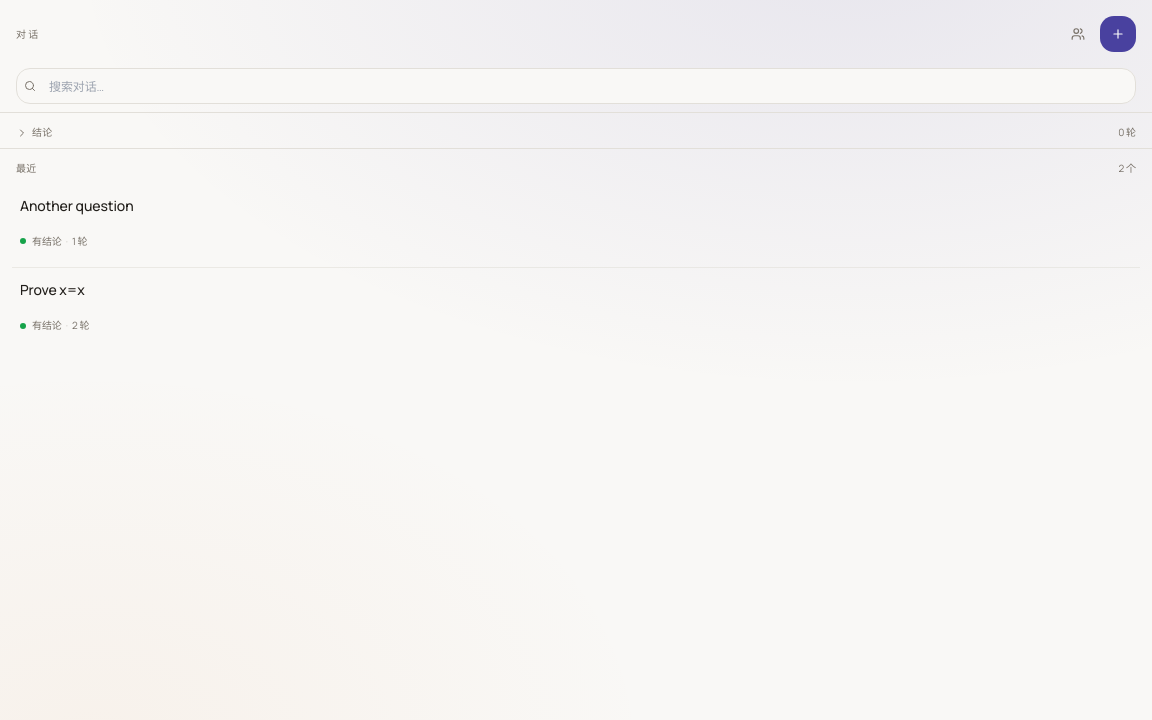
Test: ExplorerPanel › filters history by search text
The image size is (1152, 720).
Type "separate" into the field labelled "搜索对话…". click: (576, 86)
box: [16,68,1136,104]
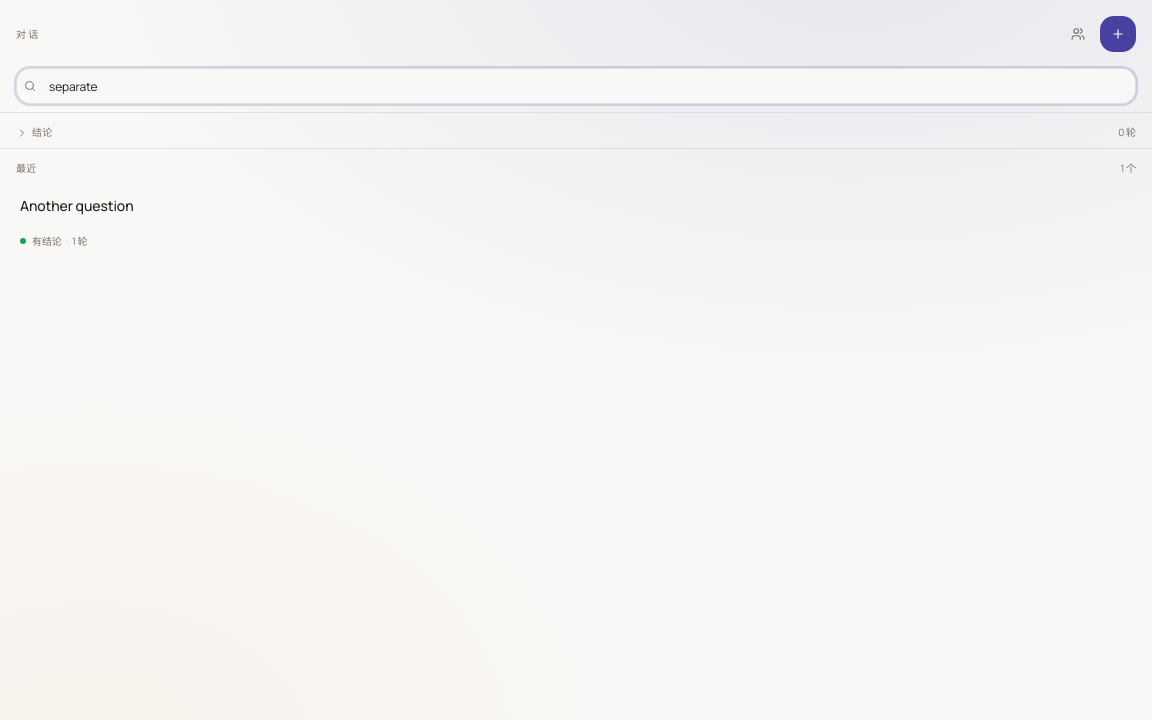
expect the text "Another question" is shown: met, box [20,196,134,215]
expect the button "Prove x=x" is gone: met
